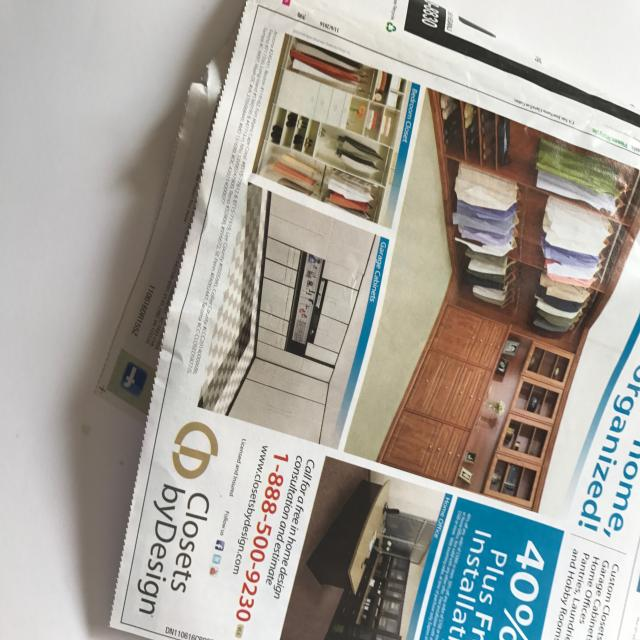paper: (94, 0, 638, 640)
